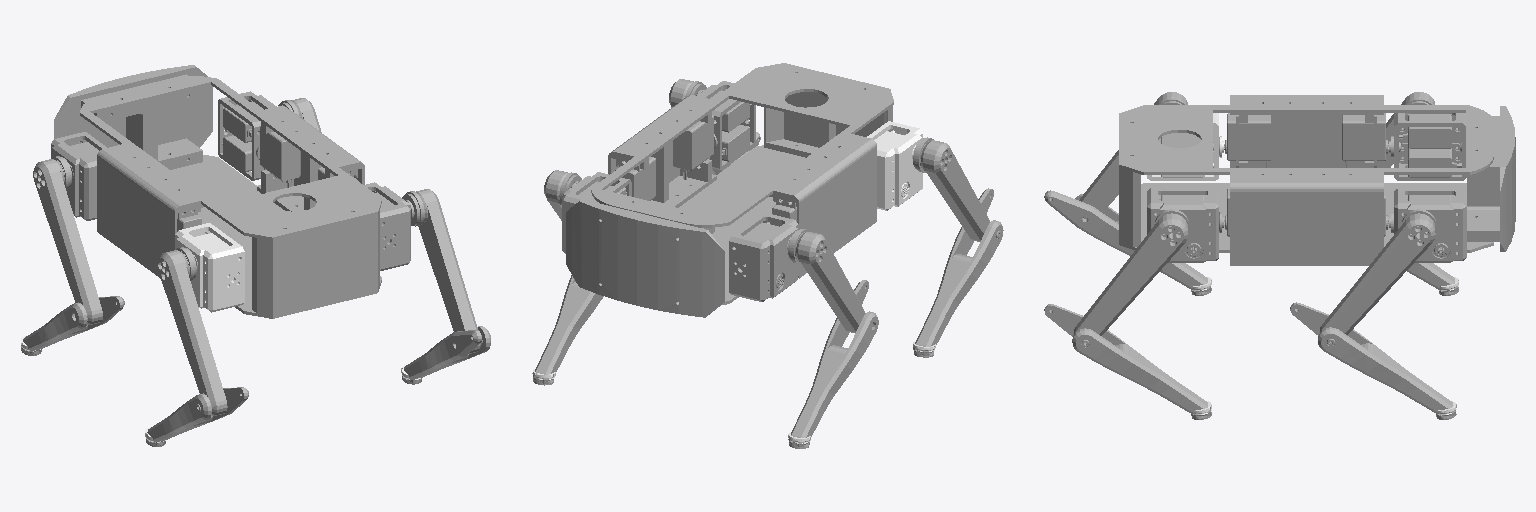
The robot description file, URDF, robot "QuadURDFcad4_0":
<?xml version="1.0" encoding="utf-8"?>
<!-- This URDF was automatically created by SolidWorks to URDF Exporter! Originally created by Stephen Brawner (brawner@gmail.com) 
     Commit Version: 1.6.0-4-g7f85cfe  Build Version: 1.6.7995.38578
     For more information, please see http://wiki.ros.org/sw_urdf_exporter -->
<robot
  name="QuadURDFcad4_0">
  <!-- 2026-10: FL_Hip / BL_Hip inertials fixed (BL_Hip had mass 0 from the CAD export,
       FL_Hip was 0.172 kg vs 0.103 kg on the other three). Both now mirror FR_Hip. -->
  <link
    name="base_link">
    <inertial>
      <origin
        xyz="-2.0613E-05 0.025429 0.033007"
        rpy="0 0 0" />
      <mass
        value="0.91665" />
      <inertia
        ixx="0.0033229"
        ixy="-2.8157E-13"
        ixz="4.4164E-08"
        iyy="0.001526"
        iyz="1.6054E-07"
        izz="0.0040801" />
    </inertial>
    <visual>
      <origin
        xyz="0 0 0"
        rpy="0 0 0" />
      <geometry>
        <mesh
          filename="./meshes/base_link.STL" />
      </geometry>
      <material
        name="">
        <color
          rgba="0.75294 0.75294 0.75294 1" />
      </material>
    </visual>
    <collision>
      <origin
        xyz="0 0 0"
        rpy="0 0 0" />
      <geometry>
        <mesh
          filename="./meshes/base_link.STL" />
      </geometry>
    </collision>
  </link>
  <link
    name="FR_Hip">
    <inertial>
      <origin
        xyz="0.018742 -0.00089079 -0.037245"
        rpy="0 0 0" />
      <mass
        value="0.10265" />
      <inertia
        ixx="4.6806E-05"
        ixy="-6.388E-08"
        ixz="6.1922E-09"
        iyy="4.6337E-05"
        iyz="1.3361E-07"
        izz="2.9038E-05" />
    </inertial>
    <visual>
      <origin
        xyz="0 0 0"
        rpy="0 0 0" />
      <geometry>
        <mesh
          filename="./meshes/FR_Hip.STL" />
      </geometry>
      <material
        name="">
        <color
          rgba="0.75294 0.75294 0.75294 1" />
      </material>
    </visual>
    <collision>
      <origin
        xyz="0 0 0"
        rpy="0 0 0" />
      <geometry>
        <mesh
          filename="./meshes/FR_Hip.STL" />
      </geometry>
    </collision>
  </link>
  <joint
    name="FR_HipRoll"
    type="revolute">
    <origin
      xyz="0.0712 0.07465 0.032"
      rpy="1.5708 -0.046312 0" />
    <parent
      link="base_link" />
    <child
      link="FR_Hip" />
    <axis
      xyz="0 0 1" />
    <limit
      lower="-0.8"
      upper="0.8"
      effort="100"
      velocity="10" />
  </joint>
  <link
    name="FR_Thigh">
    <inertial>
      <origin
        xyz="0.028867 -0.024807 0.036263"
        rpy="0 0 0" />
      <mass
        value="0.07387" />
      <inertia
        ixx="0.000113"
        ixy="-1.8435E-07"
        ixz="9.6654E-08"
        iyy="7.9371E-05"
        iyz="4.7906E-05"
        izz="3.6339E-05" />
    </inertial>
    <visual>
      <origin
        xyz="0 0 0"
        rpy="0 0 0" />
      <geometry>
        <mesh
          filename="./meshes/FR_Thigh.STL" />
      </geometry>
      <material
        name="">
        <color
          rgba="0.75294 0.75294 0.75294 1" />
      </material>
    </visual>
    <collision>
      <origin
        xyz="0 0 0"
        rpy="0 0 0" />
      <geometry>
        <mesh
          filename="./meshes/FR_Thigh.STL" />
      </geometry>
    </collision>
  </link>
  <joint
    name="FR_ThighP"
    type="revolute">
    <origin
      xyz="0.028394 0.013199 -0.0275"
      rpy="0.34751 -0.015782 -0.0027702" />
    <parent
      link="FR_Hip" />
    <child
      link="FR_Thigh" />
    <axis
      xyz="0.99893 -0.046295 0" />
    <limit
      lower="-1.57"
      upper="1.57"
      effort="100"
      velocity="10" />
  </joint>
  <link
    name="FR_Knee">
    <inertial>
      <origin
        xyz="0.032646 -0.021314 -0.059579"
        rpy="0 0 0" />
      <mass
        value="0.052932" />
      <inertia
        ixx="9.0349E-05"
        ixy="6.7954E-07"
        ixz="1.9273E-06"
        iyy="8.5052E-05"
        iyz="-2.4711E-05"
        izz="1.3096E-05" />
    </inertial>
    <visual>
      <origin
        xyz="0 0 0"
        rpy="0 0 0" />
      <geometry>
        <mesh
          filename="./meshes/FR_Knee.STL" />
      </geometry>
      <material
        name="">
        <color
          rgba="0.75294 0.75294 0.75294 1" />
      </material>
    </visual>
    <collision>
      <origin
        xyz="0 0 0"
        rpy="0 0 0" />
      <geometry>
        <mesh
          filename="./meshes/FR_Knee.STL" />
      </geometry>
    </collision>
  </link>
  <joint
    name="FR_KneeP"
    type="revolute">
    <origin
      xyz="-0.0026643 -0.060317 0.11513"
      rpy="-0.65333 0.028163 -0.0095421" />
    <parent
      link="FR_Thigh" />
    <child
      link="FR_Knee" />
    <axis
      xyz="0.99893 -0.046295 0" />
    <limit
      lower="-2.7"
      upper="2.7"
      effort="100"
      velocity="10" />
  </joint>
  <link
    name="FR_Foot">
    <inertial>
      <origin
        xyz="6.8834E-13 0.0072096 4.839E-12"
        rpy="0 0 0" />
      <mass
        value="0.0020924" />
      <inertia
        ixx="6.1241E-08"
        ixy="5.8678E-17"
        ixz="-5.9486E-18"
        iyy="1.0413E-07"
        iyz="1.1962E-17"
        izz="6.1241E-08" />
    </inertial>
    <visual>
      <origin
        xyz="0 0 0"
        rpy="0 0 0" />
      <geometry>
        <mesh
          filename="./meshes/FR_Foot.STL" />
      </geometry>
      <material
        name="">
        <color
          rgba="1 1 1 1" />
      </material>
    </visual>
    <collision>
      <origin
        xyz="0 0 0"
        rpy="0 0 0" />
      <geometry>
        <mesh
          filename="./meshes/FR_Foot.STL" />
      </geometry>
    </collision>
  </link>
  <joint
    name="FR_FixedFoot"
    type="fixed">
    <origin
      xyz="0.032228 -0.046955 -0.134"
      rpy="-0.57637 0.67632 2.7089" />
    <parent
      link="FR_Knee" />
    <child
      link="FR_Foot" />
    <axis
      xyz="0 0 0" />
  </joint>
  <link
    name="FL_Hip">
    <inertial>
      <origin
        xyz="-0.018742 -0.00089079 -0.037245"
        rpy="0 0 0" />
      <mass
        value="0.10265" />
      <inertia
        ixx="4.6806E-05"
        ixy="6.388E-08"
        ixz="-6.1922E-09"
        iyy="4.6337E-05"
        iyz="1.3361E-07"
        izz="2.9038E-05" />
    </inertial>
    <visual>
      <origin
        xyz="0 0 0"
        rpy="0 0 0" />
      <geometry>
        <mesh
          filename="./meshes/FL_Hip.STL" />
      </geometry>
      <material
        name="">
        <color
          rgba="0.752941176470588 0.752941176470588 0.752941176470588 1" />
      </material>
    </visual>
    <collision>
      <origin
        xyz="0 0 0"
        rpy="0 0 0" />
      <geometry>
        <mesh
          filename="./meshes/FL_Hip.STL" />
      </geometry>
    </collision>
  </link>
  <joint
    name="FL_HipRoll"
    type="revolute">
    <origin
      xyz="-0.0712 0.07465 0.032"
      rpy="1.5708 -0.29317 0" />
    <parent
      link="base_link" />
    <child
      link="FL_Hip" />
    <axis
      xyz="0 0 1" />
    <limit
      lower="-0.8"
      upper="0.8"
      effort="100"
      velocity="10" />
  </joint>
  <link
    name="FL_Thigh">
    <inertial>
      <origin
        xyz="-0.0260259605743596 -0.00338845809713966 0.04316447009552"
        rpy="0 0 0" />
      <mass
        value="0.0738699894705602" />
      <inertia
        ixx="0.00011268013818453"
        ixy="-7.92023988595693E-07"
        ixz="3.2542649612131E-06"
        iyy="0.000110547518113796"
        iyz="2.04285472598613E-06"
        izz="5.47758935427018E-06" />
    </inertial>
    <visual>
      <origin
        xyz="0 0 0"
        rpy="0 0 0" />
      <geometry>
        <mesh
          filename="./meshes/FL_Thigh.STL" />
      </geometry>
      <material
        name="">
        <color
          rgba="0.752941176470588 0.752941176470588 0.752941176470588 1" />
      </material>
    </visual>
    <collision>
      <origin
        xyz="0 0 0"
        rpy="0 0 0" />
      <geometry>
        <mesh
          filename="./meshes/FL_Thigh.STL" />
      </geometry>
    </collision>
  </link>
  <joint
    name="FL_ThighP"
    type="revolute">
    <origin
      xyz="-0.026043 0.02927 -0.020036"
      rpy="0.87278 -0.22727 -0.10635" />
    <parent
      link="FL_Hip" />
    <child
      link="FL_Thigh" />
    <axis
      xyz="0.95733 -0.28899 0" />
    <limit
      lower="-1.57"
      upper="1.57"
      effort="100"
      velocity="10" />
  </joint>
  <link
    name="FL_Knee">
    <inertial>
      <origin
        xyz="-0.0433866184082816 -0.0380067135388353 -0.0187554443012353"
        rpy="0 0 0" />
      <mass
        value="0.052931885613327" />
      <inertia
        ixx="8.25131046424824E-05"
        ixy="-2.27367995529977E-05"
        ixz="-9.68321588698199E-06"
        iyy="2.48123765354961E-05"
        iyz="-2.79606972048559E-05"
        izz="8.11711074631011E-05" />
    </inertial>
    <visual>
      <origin
        xyz="0 0 0"
        rpy="0 0 0" />
      <geometry>
        <mesh
          filename="./meshes/FL_Knee.STL" />
      </geometry>
      <material
        name="">
        <color
          rgba="0.752941176470588 0.752941176470588 0.752941176470588 1" />
      </material>
    </visual>
    <collision>
      <origin
        xyz="0 0 0"
        rpy="0 0 0" />
      <geometry>
        <mesh
          filename="./meshes/FL_Knee.STL" />
      </geometry>
    </collision>
  </link>
  <joint
    name="FL_KneeP"
    type="revolute">
    <origin
      xyz="-0.00063197 -0.012094 0.12998"
      rpy="-0.28927 0.085899 -0.012519" />
    <parent
      link="FL_Thigh" />
    <child
      link="FL_Knee" />
    <axis
      xyz="0.95733 -0.28899 0" />
    <limit
      lower="-2.7"
      upper="2.7"
      effort="100"
      velocity="10" />
  </joint>
  <link
    name="FL_Foot">
    <inertial>
      <origin
        xyz="9.57497969800158E-13 0.00607941032363163 4.56151783012615E-12"
        rpy="0 0 0" />
      <mass
        value="0.00209238279090247" />
      <inertia
        ixx="6.12405525754502E-08"
        ixy="3.86474506888219E-17"
        ixz="-5.41015550888964E-18"
        iyy="1.04133282630352E-07"
        iyz="9.31030095573533E-18"
        izz="6.12405525999941E-08" />
    </inertial>
    <visual>
      <origin
        xyz="0 0 0"
        rpy="0 0 0" />
      <geometry>
        <mesh
          filename="./meshes/FL_Foot.STL" />
      </geometry>
      <material
        name="">
        <color
          rgba="1 1 1 1" />
      </material>
    </visual>
    <collision>
      <origin
        xyz="0 0 0"
        rpy="0 0 0" />
      <geometry>
        <mesh
          filename="./meshes/FL_Foot.STL" />
      </geometry>
    </collision>
  </link>
  <joint
    name="FL_FixedFoot"
    type="fixed">
    <origin
      xyz="-0.065885 -0.10978 -0.04453"
      rpy="1.5708 1.111 -1.864" />
    <parent
      link="FL_Knee" />
    <child
      link="FL_Foot" />
    <axis
      xyz="0 1 0" />
  </joint>
  <link
    name="BR_Hip">
    <inertial>
      <origin
        xyz="0.0187421369497242 -0.000890794993457733 0.0372446758134174"
        rpy="0 0 0" />
      <mass
        value="0.102649597706034" />
      <inertia
        ixx="4.68060945087987E-05"
        ixy="-6.38800472159297E-08"
        ixz="6.19222478128402E-09"
        iyy="4.63365511378159E-05"
        iyz="1.33610213967634E-07"
        izz="2.9038421287295E-05" />
    </inertial>
    <visual>
      <origin
        xyz="0 0 0"
        rpy="0 0 0" />
      <geometry>
        <mesh
          filename="./meshes/BR_Hip.STL" />
      </geometry>
      <material
        name="">
        <color
          rgba="0.752941176470588 0.752941176470588 0.752941176470588 1" />
      </material>
    </visual>
    <collision>
      <origin
        xyz="0 0 0"
        rpy="0 0 0" />
      <geometry>
        <mesh
          filename="./meshes/BR_Hip.STL" />
      </geometry>
    </collision>
  </link>
  <joint
    name="BR_HipRoll"
    type="revolute">
    <origin
      xyz="0.0712 -0.07465 0.032"
      rpy="1.5708 -0.046312 0" />
    <parent
      link="base_link" />
    <child
      link="BR_Hip" />
    <axis
      xyz="0 0 1" />
    <limit
      lower="-0.8"
      upper="0.8"
      effort="100"
      velocity="10" />
  </joint>
  <link
    name="BR_Thigh">
    <inertial>
      <origin
        xyz="0.028370145775199 -0.0352671862538255 0.0267263808727637"
        rpy="0 0 0" />
      <mass
        value="0.0738699894705602" />
      <inertia
        ixx="0.000112979472667595"
        ixy="-1.13822228967576E-06"
        ixz="8.00683043038441E-07"
        iyy="4.5570875479595E-05"
        iyz="5.10475465444886E-05"
        izz="7.01548975054064E-05" />
    </inertial>
    <visual>
      <origin
        xyz="0 0 0"
        rpy="0 0 0" />
      <geometry>
        <mesh
          filename="./meshes/BR_Thigh.STL" />
      </geometry>
      <material
        name="">
        <color
          rgba="0.752941176470588 0.752941176470588 0.752941176470588 1" />
      </material>
    </visual>
    <collision>
      <origin
        xyz="0 0 0"
        rpy="0 0 0" />
      <geometry>
        <mesh
          filename="./meshes/BR_Thigh.STL" />
      </geometry>
    </collision>
  </link>
  <joint
    name="BR_ThighP"
    type="revolute">
    <origin
      xyz="0.028406 0.013199 0.0475"
      rpy="0.018342 -0.00084999 0" />
    <parent
      link="BR_Hip" />
    <child
      link="BR_Thigh" />
    <axis
      xyz="0.99893 -0.046295 0" />
    <limit
      lower="-1.57"
      upper="1.57"
      effort="100"
      velocity="10" />
  </joint>
  <link
    name="BR_Knee">
    <inertial>
      <origin
        xyz="0.034047303079851 0.00635017845747216 -0.0622754415794301"
        rpy="0 0 0" />
      <mass
        value="0.0529318847832179" />
      <inertia
        ixx="9.02302778456741E-05"
        ixy="-4.67479236705131E-07"
        ixz="3.74944322493672E-06"
        iyy="9.08848554221293E-05"
        iyz="1.25153969678517E-05"
        izz="7.38145374074031E-06" />
    </inertial>
    <visual>
      <origin
        xyz="0 0 0"
        rpy="0 0 0" />
      <geometry>
        <mesh
          filename="./meshes/BR_Knee.STL" />
      </geometry>
      <material
        name="">
        <color
          rgba="0.752941176470588 0.752941176470588 0.752941176470588 1" />
      </material>
    </visual>
    <collision>
      <origin
        xyz="0 0 0"
        rpy="0 0 0" />
      <geometry>
        <mesh
          filename="./meshes/BR_Knee.STL" />
      </geometry>
    </collision>
  </link>
  <joint
    name="BR_KneeP"
    type="revolute">
    <origin
      xyz="-0.0043694 -0.094278 0.089401"
      rpy="-0.77085 0.03228 -0.013097" />
    <parent
      link="BR_Thigh" />
    <child
      link="BR_Knee" />
    <axis
      xyz="0.99893 -0.046295 0" />
    <limit
      lower="-2.7"
      upper="2.7"
      effort="100"
      velocity="10" />
  </joint>
  <link
    name="BR_Foot">
    <inertial>
      <origin
        xyz="6.50465792340071E-13 0.00713995307960615 4.93266538725834E-12"
        rpy="0 0 0" />
      <mass
        value="0.00209238279086661" />
      <inertia
        ixx="6.12405525503909E-08"
        ixy="6.28940876821024E-17"
        ixz="-5.82978697753898E-18"
        iyy="1.04133282650521E-07"
        iyz="1.07692993141218E-17"
        izz="6.1240552577677E-08" />
    </inertial>
    <visual>
      <origin
        xyz="0 0 0"
        rpy="0 0 0" />
      <geometry>
        <mesh
          filename="./meshes/BR_Foot.STL" />
      </geometry>
      <material
        name="">
        <color
          rgba="1 1 1 1" />
      </material>
    </visual>
    <collision>
      <origin
        xyz="0 0 0"
        rpy="0 0 0" />
      <geometry>
        <mesh
          filename="./meshes/BR_Foot.STL" />
      </geometry>
    </collision>
  </link>
  <joint
    name="BR_FixedFoot"
    type="fixed">
    <origin
      xyz="0.035233 0.015319 -0.14052"
      rpy="-0.97587 0.36183 2.6133" />
    <parent
      link="BR_Knee" />
    <child
      link="BR_Foot" />
    <axis
      xyz="0 0 0" />
  </joint>
  <link
    name="BL_Hip">
    <inertial>
      <origin
        xyz="-0.018742 -0.00089079 0.037245"
        rpy="0 0 0" />
      <mass
        value="0.10265" />
      <inertia
        ixx="4.6806E-05"
        ixy="6.388E-08"
        ixz="6.1922E-09"
        iyy="4.6337E-05"
        iyz="-1.3361E-07"
        izz="2.9038E-05" />
    </inertial>
    <visual>
      <origin
        xyz="0 0 0"
        rpy="0 0 0" />
      <geometry>
        <mesh
          filename="./meshes/BL_Hip.STL" />
      </geometry>
      <material
        name="">
        <color
          rgba="1 1 1 1" />
      </material>
    </visual>
    <collision>
      <origin
        xyz="0 0 0"
        rpy="0 0 0" />
      <geometry>
        <mesh
          filename="./meshes/BL_Hip.STL" />
      </geometry>
    </collision>
  </link>
  <joint
    name="BL_HipRoll"
    type="revolute">
    <origin
      xyz="-0.0712 -0.07465 0.032"
      rpy="1.5708 -0.29317 0" />
    <parent
      link="base_link" />
    <child
      link="BL_Hip" />
    <axis
      xyz="0 0 1" />
    <limit
      lower="-0.8"
      upper="0.8"
      effort="100"
      velocity="10" />
  </joint>
  <link
    name="BL_Thigh">
    <inertial>
      <origin
        xyz="-0.0401485517512794 -0.0123026202415094 0.0409140602523934"
        rpy="0 0 0" />
      <mass
        value="0.0738699894705603" />
      <inertia
        ixx="0.000111382207391609"
        ixy="-4.3536792037388E-06"
        ixz="1.14816806600571E-05"
        iyy="0.000101193552166053"
        iyz="2.97531041355298E-05"
        izz="1.61294860949336E-05" />
    </inertial>
    <visual>
      <origin
        xyz="0 0 0"
        rpy="0 0 0" />
      <geometry>
        <mesh
          filename="./meshes/BL_Thigh.STL" />
      </geometry>
      <material
        name="">
        <color
          rgba="0.752941176470588 0.752941176470588 0.752941176470588 1" />
      </material>
    </visual>
    <collision>
      <origin
        xyz="0 0 0"
        rpy="0 0 0" />
      <geometry>
        <mesh
          filename="./meshes/BL_Thigh.STL" />
      </geometry>
    </collision>
  </link>
  <joint
    name="BL_ThighP"
    type="revolute">
    <origin
      xyz="-0.015009 0.027951 0.052876"
      rpy="0.57621 -0.16301 -0.048407" />
    <parent
      link="BL_Hip" />
    <child
      link="BL_Thigh" />
    <axis
      xyz="0.95733 -0.28899 0" />
    <limit
      lower="-1.57"
      upper="1.57"
      effort="100"
      velocity="10" />
  </joint>
  <link
    name="BL_Knee">
    <inertial>
      <origin
        xyz="-0.0483926060483983 -0.0264527089086648 0.0318139855150891"
        rpy="0 0 0" />
      <mass
        value="0.0533765936947715" />
      <inertia
        ixx="8.46523120191437E-05"
        ixy="-1.61137893245953E-05"
        ixz="1.4197102579737E-05"
        iyy="4.52352455846829E-05"
        iyz="4.0167791508092E-05"
        izz="5.86830737602521E-05" />
    </inertial>
    <visual>
      <origin
        xyz="0 0 0"
        rpy="0 0 0" />
      <geometry>
        <mesh
          filename="./meshes/BL_Knee.STL" />
      </geometry>
      <material
        name="">
        <color
          rgba="0.752941176470588 0.752941176470588 0.752941176470588 1" />
      </material>
    </visual>
    <collision>
      <origin
        xyz="0 0 0"
        rpy="0 0 0" />
      <geometry>
        <mesh
          filename="./meshes/BL_Knee.STL" />
      </geometry>
    </collision>
  </link>
  <joint
    name="BL_KneeP"
    type="revolute">
    <origin
      xyz="-0.014779 -0.048958 0.12318"
      rpy="1.0249 -0.2525 -0.14258" />
    <parent
      link="BL_Thigh" />
    <child
      link="BL_Knee" />
    <axis
      xyz="0.95733 -0.28899 0" />
    <limit
      lower="-2.7"
      upper="2.7"
      effort="100"
      velocity="10" />
  </joint>
  <link
    name="BL_Foot">
    <inertial>
      <origin
        xyz="9.85850290291523E-13 0.0062325257086501 4.54761228674272E-12"
        rpy="0 0 0" />
      <mass
        value="0.00209238279090277" />
      <inertia
        ixx="6.12405525768046E-08"
        ixy="3.73962432322038E-17"
        ixz="-5.28707915431692E-18"
        iyy="1.0413328262934E-07"
        iyz="8.49207274212457E-18"
        izz="6.12405526005899E-08" />
    </inertial>
    <visual>
      <origin
        xyz="0 0 0"
        rpy="0 0 0" />
      <geometry>
        <mesh
          filename="./meshes/BL_Foot.STL" />
      </geometry>
      <material
        name="">
        <color
          rgba="1 1 1 1" />
      </material>
    </visual>
    <collision>
      <origin
        xyz="0 0 0"
        rpy="0 0 0" />
      <geometry>
        <mesh
          filename="./meshes/BL_Foot.STL" />
      </geometry>
    </collision>
  </link>
  <joint
    name="BL_FixedFoot"
    type="fixed">
    <origin
      xyz="-0.066486 -0.083899 0.084202"
      rpy="1.5745 0.063287 -1.8061" />
    <parent
      link="BL_Knee" />
    <child
      link="BL_Foot" />
    <axis
      xyz="0 0 0" />
  </joint>
</robot>

--- Facts derived from the render (not from the file) ---
3 views of the same robot in one strip: view 1: azimuth 30°, elevation 25°; view 2: azimuth 150°, elevation 25°; view 3: azimuth 270°, elevation 25° (orthographic).
Model QuadURDFcad4_0 with 17 links and 16 joints (12 revolute, 4 fixed), rooted at base_link, posed all joints at 0.
Links seen in each view (by area): view 1: base_link, FL_Thigh, BL_Thigh, BL_Hip, BR_Thigh, FR_Hip, FL_Hip, BR_Hip, BR_Knee, FL_Knee, BL_Knee, FR_Thigh; view 2: base_link, FL_Hip, BL_Knee, FL_Knee, FL_Thigh, BL_Hip, BL_Thigh, BR_Hip, FR_Knee, FR_Hip, FR_Thigh, BR_Thigh; view 3: base_link, FR_Thigh, BR_Thigh, FL_Hip, FR_Knee, BR_Knee, FR_Hip, BR_Hip, BL_Knee, BL_Thigh, BL_Hip, FL_Knee (+1 smaller).
Link boxes in pixels (x1,y1,x2,y2): base_link: (54, 65, 381, 318); FL_Thigh: (33, 156, 102, 324); BL_Thigh: (158, 247, 227, 415); BL_Hip: (175, 223, 244, 312); BR_Thigh: (402, 189, 480, 353); FR_Hip: (218, 91, 276, 180); FL_Hip: (51, 132, 106, 220); BR_Hip: (364, 182, 410, 270); BR_Knee: (402, 326, 490, 384); FL_Knee: (21, 296, 124, 355); BL_Knee: (146, 387, 248, 446); FR_Thigh: (278, 98, 321, 132); base_link: (566, 63, 893, 317); FL_Hip: (729, 212, 798, 301); BL_Knee: (913, 188, 1003, 357); FL_Knee: (789, 280, 878, 448); FL_Thigh: (788, 229, 865, 332); BL_Hip: (867, 121, 922, 210); BL_Thigh: (913, 137, 989, 241); BR_Hip: (697, 81, 755, 170); FR_Knee: (533, 275, 603, 385); FR_Hip: (562, 172, 631, 253); FR_Thigh: (544, 170, 581, 220); BR_Thigh: (669, 79, 730, 174); base_link: (1119, 95, 1515, 265); FR_Thigh: (1320, 209, 1436, 334); BR_Thigh: (1074, 209, 1189, 335); FL_Hip: (1389, 113, 1466, 180); FR_Knee: (1290, 302, 1456, 419); BR_Knee: (1044, 304, 1211, 419); FR_Hip: (1389, 188, 1466, 262); BR_Hip: (1147, 188, 1223, 262); BL_Knee: (1044, 190, 1211, 295); BL_Thigh: (1079, 92, 1187, 212); BL_Hip: (1147, 113, 1223, 180); FL_Knee: (1407, 263, 1458, 295).
Size in the robot's own frame: 0.3011 by 0.4274 by 0.2182 metres.
17 mesh visuals loaded from 17 distinct referenced files (17 binary STL).
